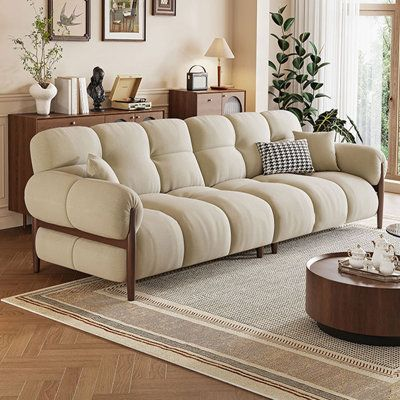3seatersofa: (25, 110, 385, 299)
backrest: (32, 111, 302, 195)
leftarmrest: (336, 143, 386, 186)
leg: (32, 209, 135, 300), (374, 165, 384, 228), (34, 244, 39, 272), (270, 243, 278, 254), (256, 247, 263, 258)
pillow: (257, 132, 338, 175), (88, 156, 118, 182)
rightarmrest: (25, 171, 143, 239)
seat: (135, 171, 378, 279), (36, 228, 126, 283)
